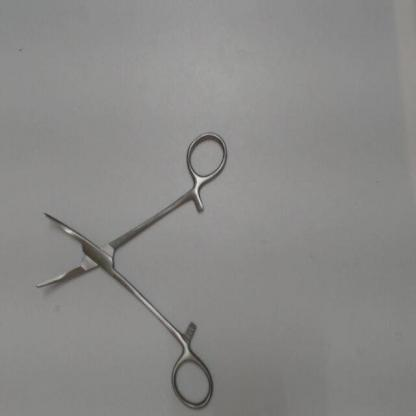Crile Artery Forceps: (27, 125, 233, 414)
